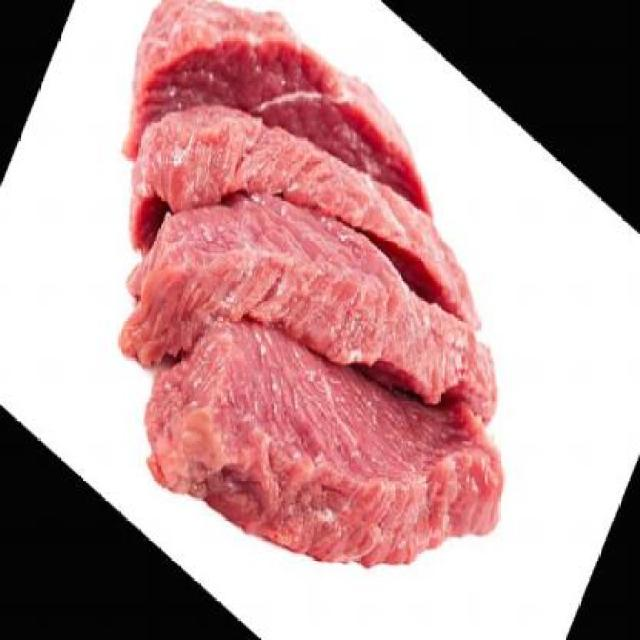beef: (107, 0, 512, 571)
